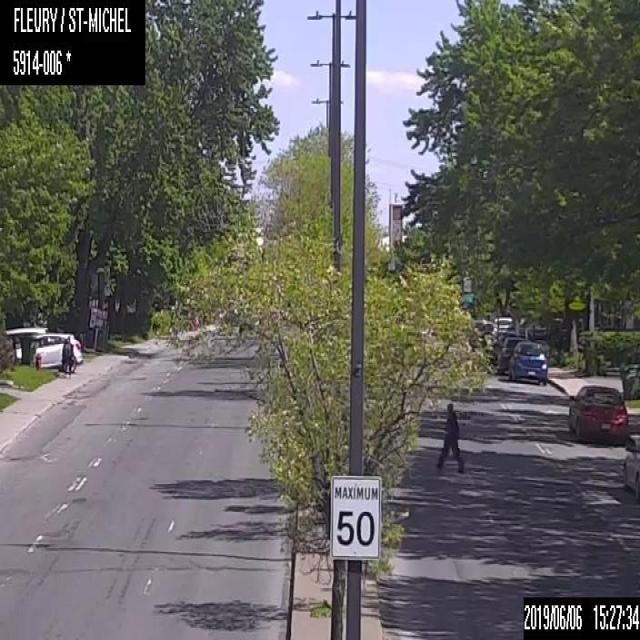pedestrian: (434, 401, 464, 472), (61, 334, 73, 374)
vehicle: (564, 378, 630, 448), (34, 325, 83, 371), (0, 324, 49, 364), (507, 341, 547, 384), (497, 332, 528, 376), (621, 436, 639, 501)
